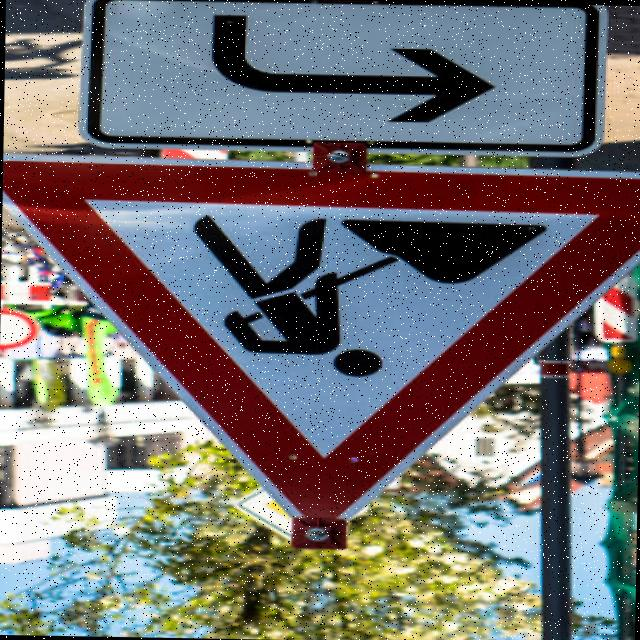road_work: (0, 158, 640, 531)
